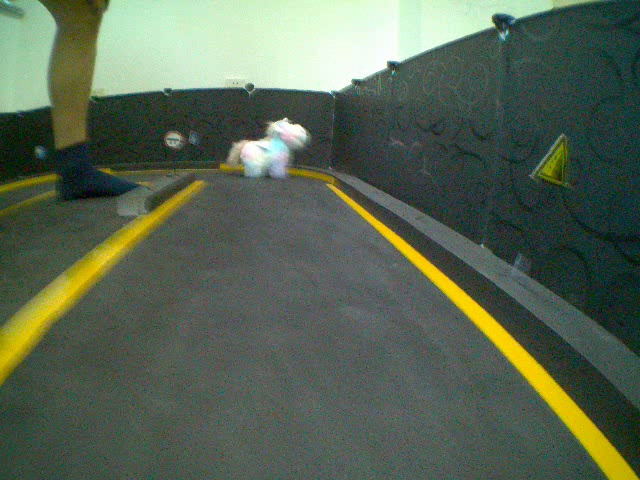unicorn: (228, 121, 309, 179)
